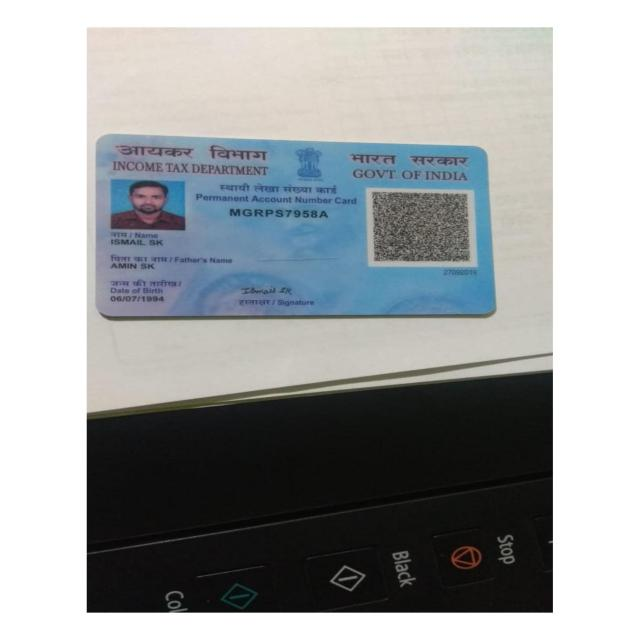pan_card: (93, 135, 496, 319)
